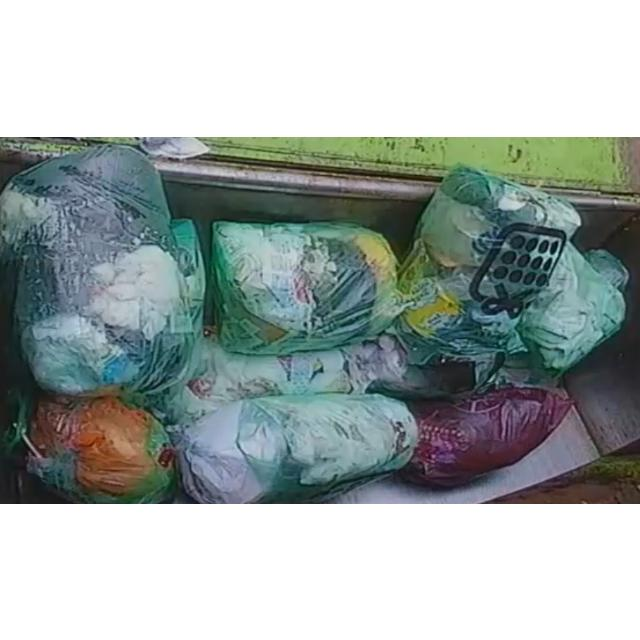general_trashbag: (0, 146, 199, 394), (395, 166, 580, 363), (174, 394, 418, 502), (212, 220, 399, 354), (149, 334, 408, 423), (495, 241, 626, 385), (28, 395, 175, 502)
other_trashbag: (401, 386, 572, 485)
